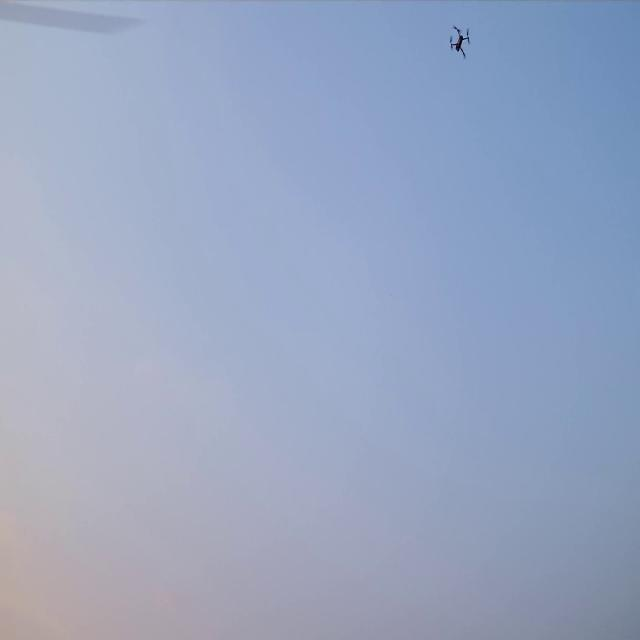UAV: (451, 28, 468, 56)
